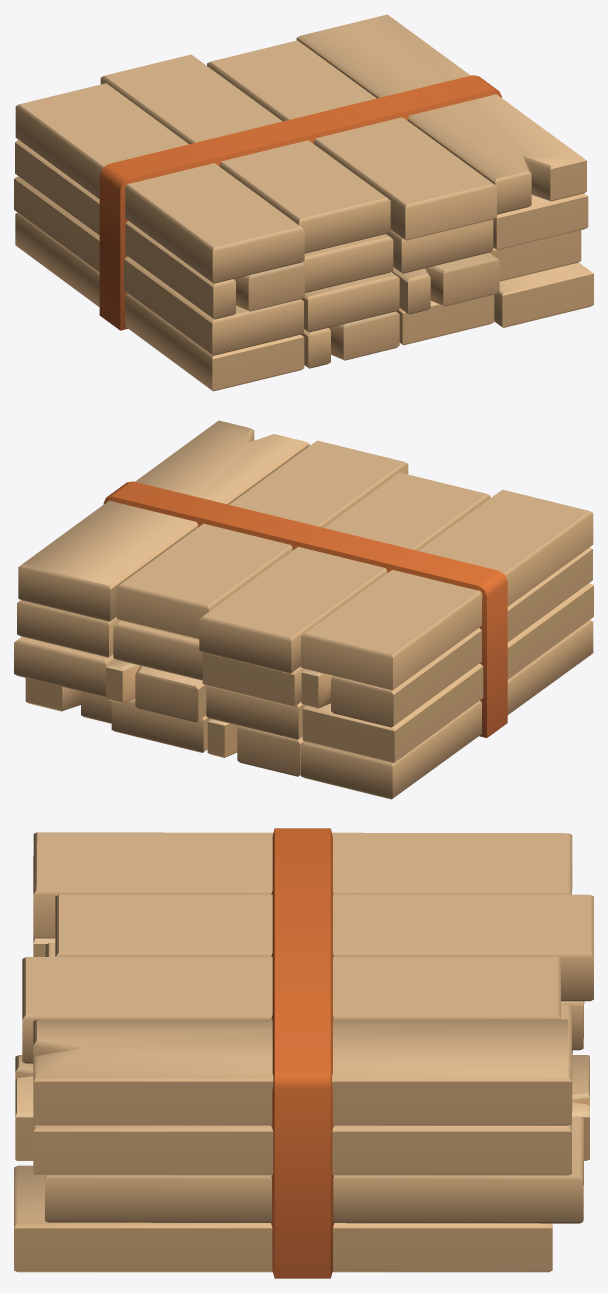
File: plankstapel.glb
3 renders of one model, top to bottom at view 1: azimuth 30°, elevation 25°; view 2: azimuth 150°, elevation 25°; view 3: azimuth 270°, elevation 25°, orthographic. The views are drawn at different scales.
Visible parts, largest first — view 1: Wood_Planks_Stack_Medium; view 2: Wood_Planks_Stack_Medium; view 3: Wood_Planks_Stack_Medium.
Boxes of the visible parts, box(x1,y1,x2,y2) form: Wood_Planks_Stack_Medium: box(14, 14, 593, 391); Wood_Planks_Stack_Medium: box(14, 420, 593, 799); Wood_Planks_Stack_Medium: box(14, 828, 593, 1278).
Bounding box in the file's own units: 1.67 × 0.6232 × 1.62.
1 material, 1 textured.
